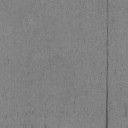surface scratch: (105, 0, 109, 128), (124, 104, 127, 117)
